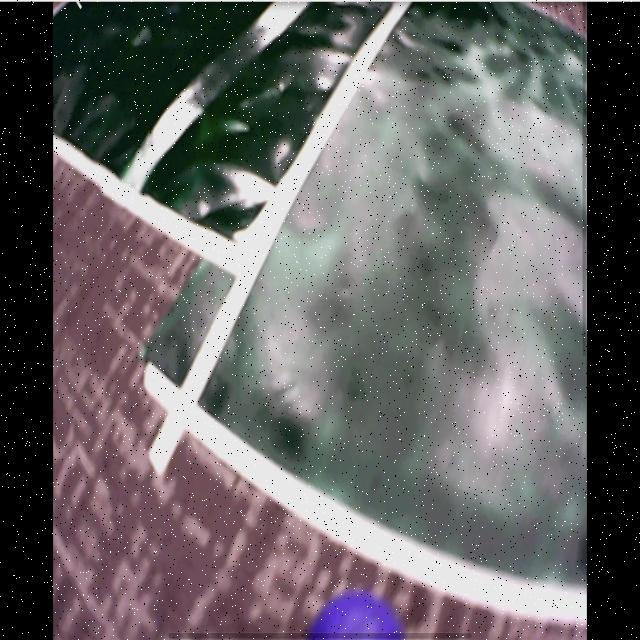ball: (309, 593, 405, 640)
